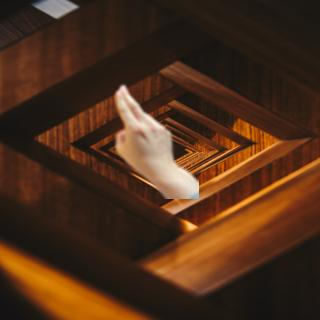DHAVE: (107, 82, 179, 177)
